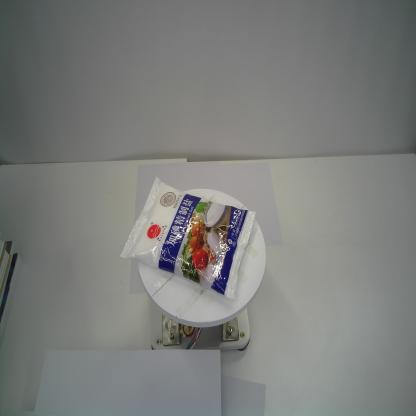Seasoner: (117, 176, 256, 304)
